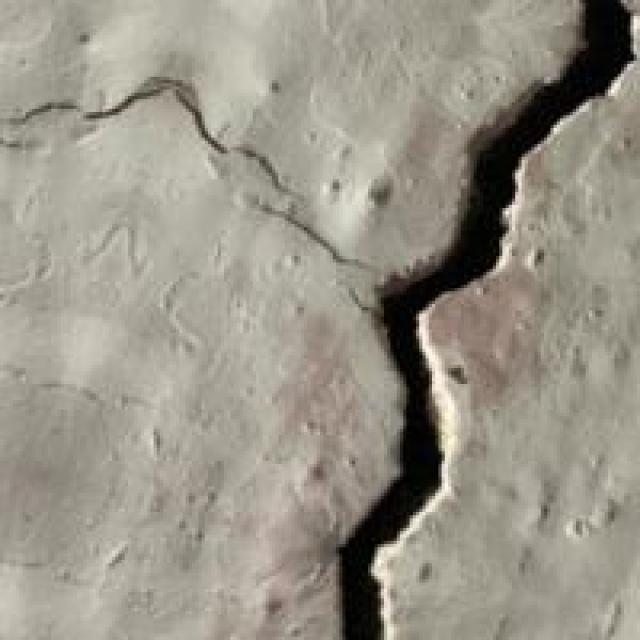Crack: (224, 0, 637, 637)
